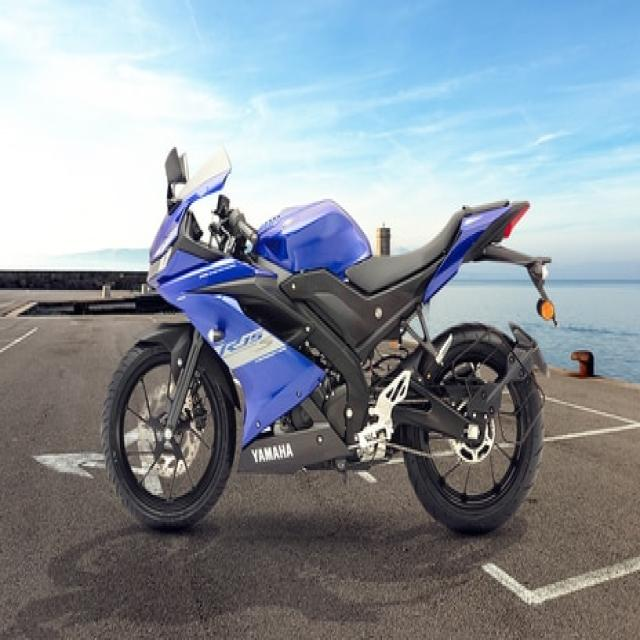MOTORCYCLE: (101, 146, 558, 533)
